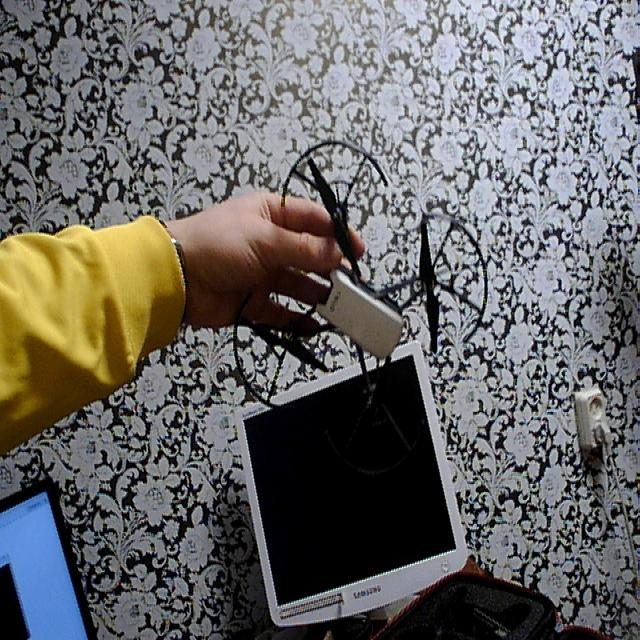drone: (231, 131, 499, 482)
